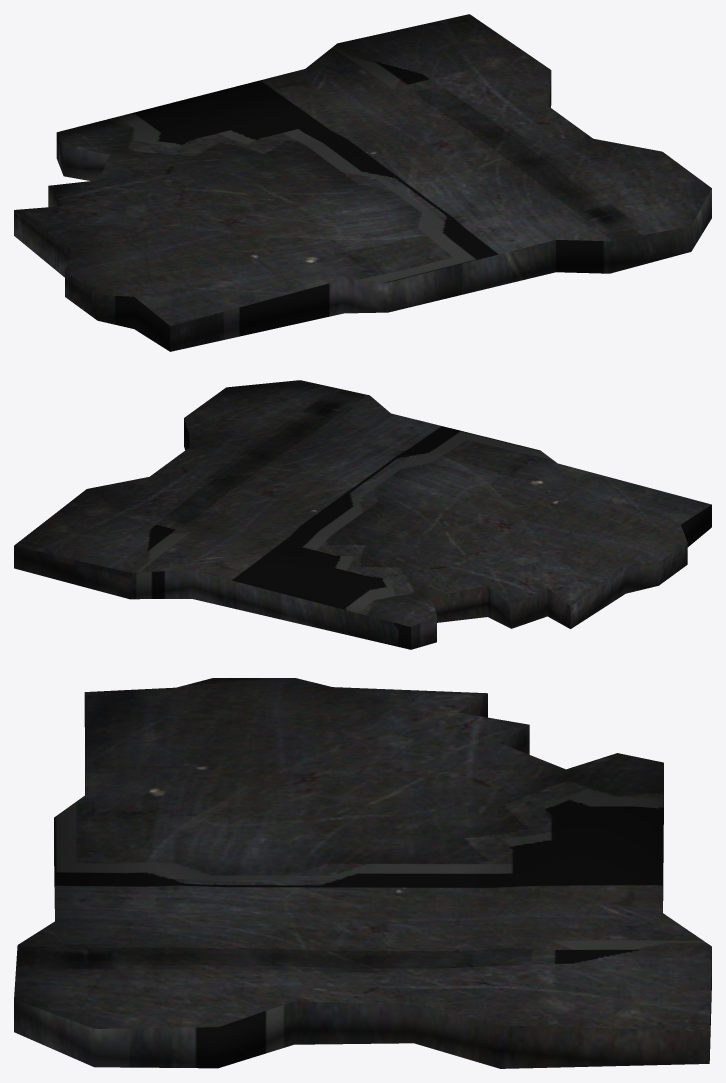
File: spacejunk6.fbx
3 renders of one model, top to bottom at view 1: azimuth 30°, elevation 25°; view 2: azimuth 150°, elevation 25°; view 3: azimuth 270°, elevation 25°, orthographic. The views are drawn at different scales.
Parts seen in each view (by area): view 1: PipelineFBX; view 2: PipelineFBX; view 3: PipelineFBX.
Boxes of the visible parts, x1=… form: PipelineFBX: x1=14, y1=14, x2=711, y2=351; PipelineFBX: x1=14, y1=380, x2=711, y2=649; PipelineFBX: x1=14, y1=678, x2=711, y2=1068.
Size of the model in its own units: 96.42 by 5.72 by 80.42.
Materials: 1 (1 with a texture image).
